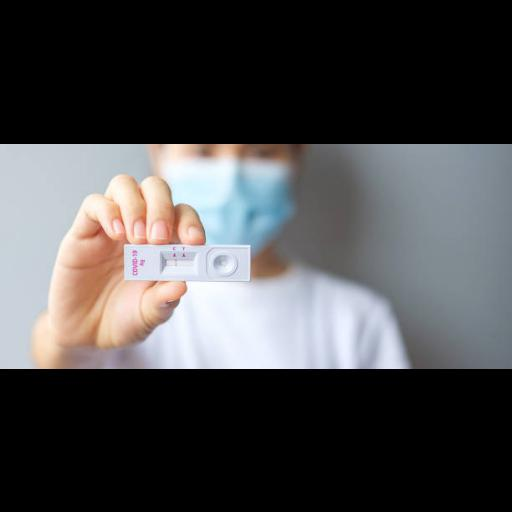Neg: (124, 243, 250, 279)
